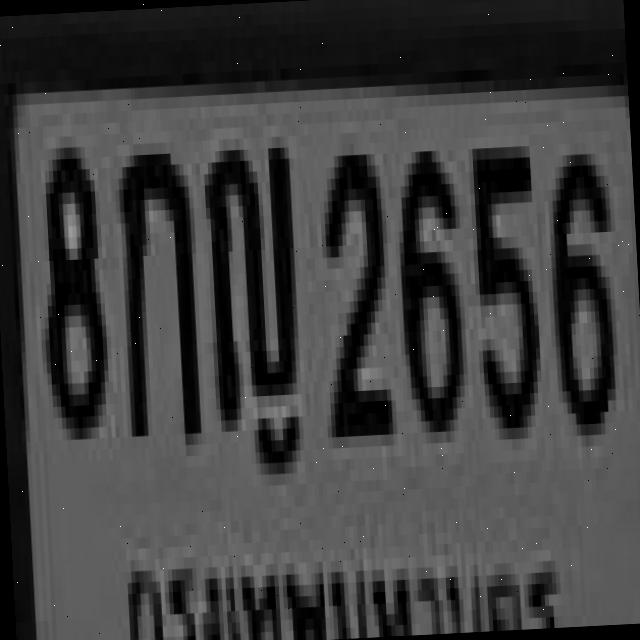10GorGai: (112, 142, 198, 436)
2: (312, 138, 388, 432)
22YorYing: (198, 130, 298, 427)
5: (468, 135, 540, 430)
6: (542, 142, 614, 426), (390, 140, 462, 422)
8: (31, 135, 107, 430)
